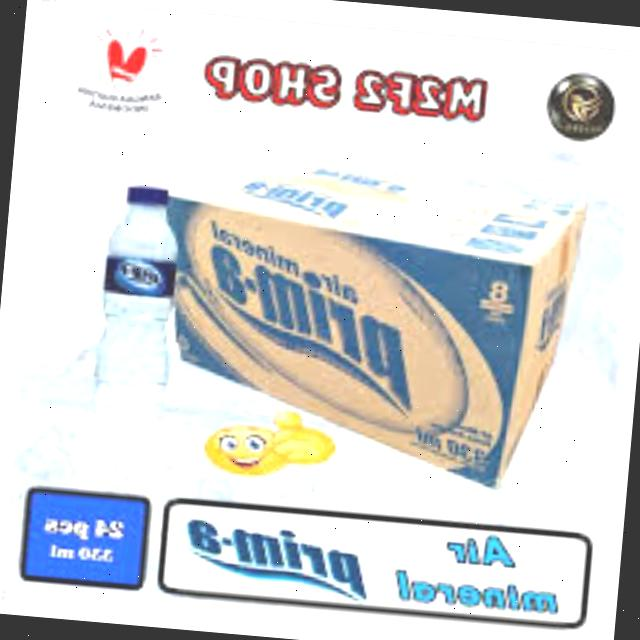trash: (84, 178, 193, 434)
